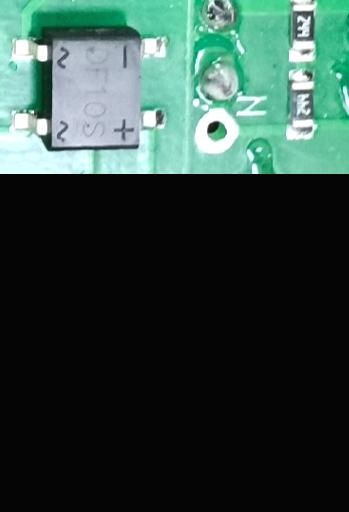chip-resistor: (283, 68, 316, 143), (285, 0, 318, 65)
ic: (5, 24, 172, 154)
